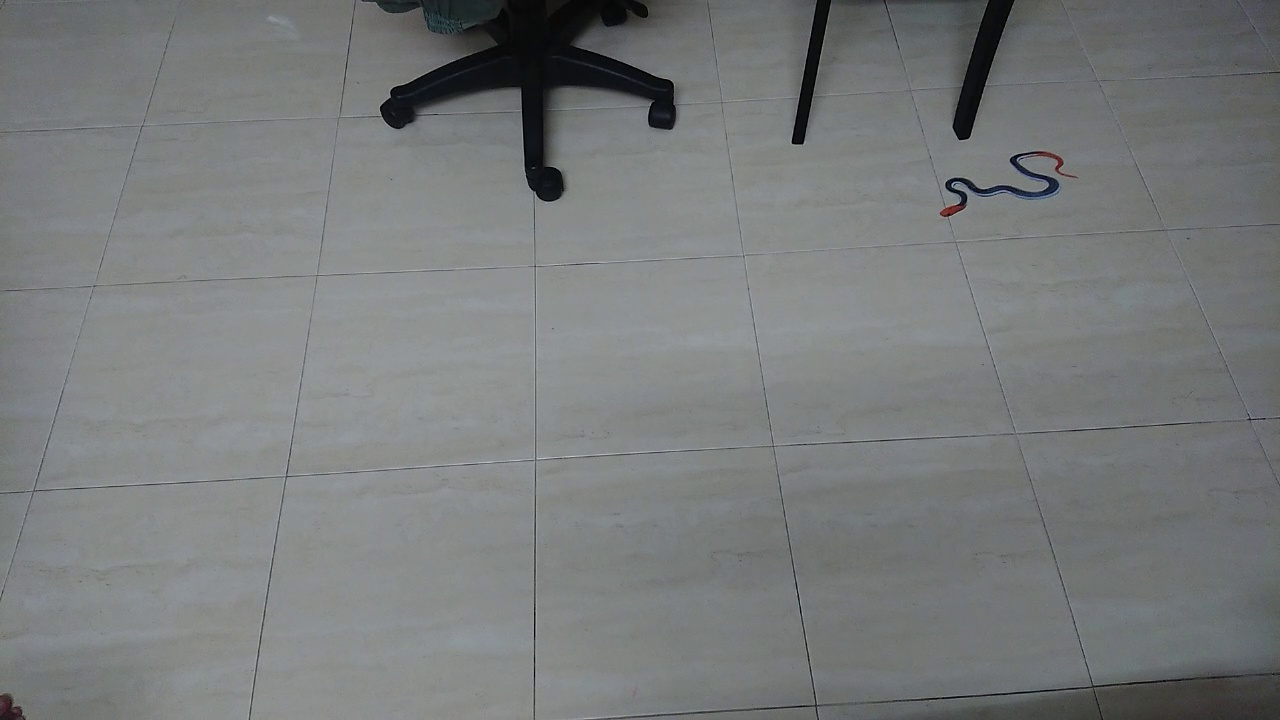snake: (926, 139, 1094, 231)
